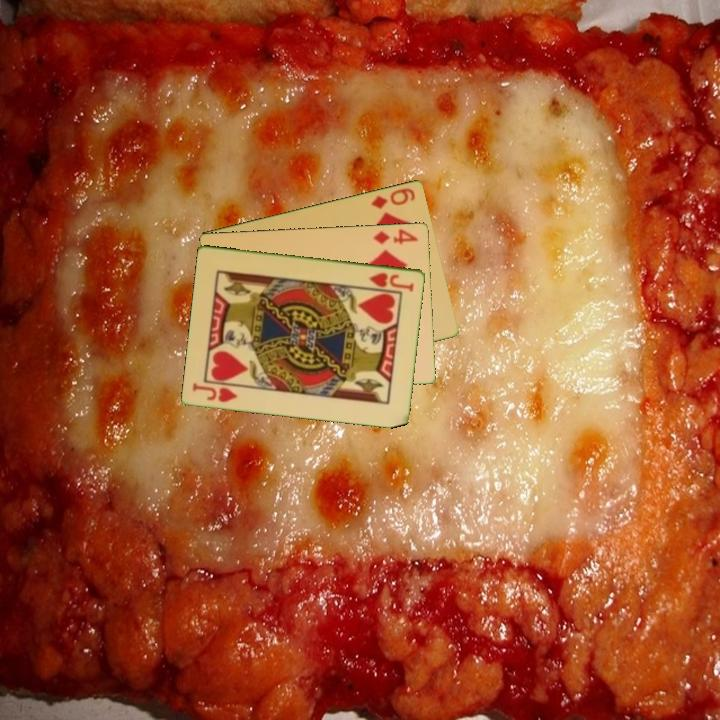4d: (369, 225, 422, 247)
6d: (367, 184, 418, 211)
Jh: (189, 379, 241, 405), (366, 269, 417, 294)
